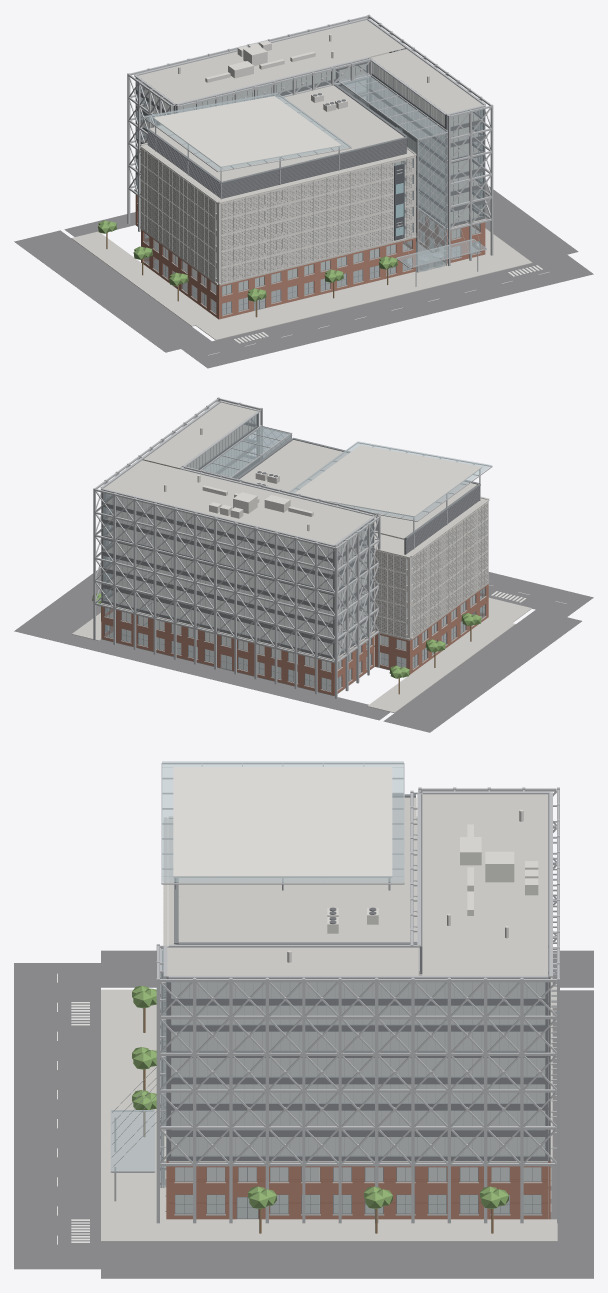
The model's file is clay-braced-frame-hospital-clay-v002.glb.
3 renders of one model, top to bottom at view 1: azimuth 30°, elevation 25°; view 2: azimuth 150°, elevation 25°; view 3: azimuth 270°, elevation 25°, orthographic. The views are drawn at different scales.
Visible parts, largest first — view 1: CLAY_PALE, CLAY_ASPHALT, CLAY_GLASS, CLAY_MEMBRANE, CLAY_STEEL, CLAY_CONCRETE, CLAY_PERF, CLAY_TRIM, CLAY_FLOOR, CLAY_WALL, CLAY_HARDWARE, CLAY_LOUVRE (+4 smaller); view 2: CLAY_STEEL, CLAY_GLASS, CLAY_PALE, CLAY_FLOOR, CLAY_ASPHALT, CLAY_MEMBRANE, CLAY_TRIM, CLAY_WALL, CLAY_CONCRETE, CLAY_PERF, CLAY_FOUNDATION, CLAY_HARDWARE (+3 smaller); view 3: CLAY_ASPHALT, CLAY_GLASS, CLAY_STEEL, CLAY_MEMBRANE, CLAY_FLOOR, CLAY_PALE, CLAY_CONCRETE, CLAY_TRIM, CLAY_WALL, CLAY_FOUNDATION, CLAY_PLANTING, CLAY_STONE (+1 smaller).
Part boxes in pixels (x1,y1,x2,y2): CLAY_PALE: (140, 34, 429, 283); CLAY_ASPHALT: (14, 184, 593, 368); CLAY_GLASS: (137, 48, 486, 314); CLAY_MEMBRANE: (138, 20, 482, 201); CLAY_STEEL: (127, 14, 493, 286); CLAY_CONCRETE: (71, 127, 532, 340); CLAY_PERF: (141, 149, 411, 282); CLAY_TRIM: (135, 19, 485, 315); CLAY_FLOOR: (141, 52, 479, 294); CLAY_WALL: (135, 195, 485, 319); CLAY_HARDWARE: (143, 93, 406, 266); CLAY_LOUVRE: (148, 85, 406, 198); CLAY_STEEL: (93, 397, 492, 698); CLAY_GLASS: (103, 415, 491, 690); CLAY_PALE: (164, 427, 488, 638); CLAY_FLOOR: (106, 424, 482, 670); CLAY_ASPHALT: (14, 568, 593, 732); CLAY_MEMBRANE: (104, 402, 485, 556); CLAY_TRIM: (101, 402, 485, 691); CLAY_WALL: (101, 581, 488, 695); CLAY_CONCRETE: (72, 496, 531, 712); CLAY_PERF: (376, 504, 487, 636); CLAY_FOUNDATION: (101, 614, 482, 696); CLAY_HARDWARE: (257, 471, 485, 616); CLAY_ASPHALT: (14, 950, 593, 1278); CLAY_GLASS: (111, 761, 545, 1218); CLAY_STEEL: (110, 762, 559, 1223); CLAY_MEMBRANE: (167, 794, 547, 976); CLAY_FLOOR: (171, 794, 548, 1188); CLAY_PALE: (163, 767, 538, 973); CLAY_CONCRETE: (101, 816, 557, 1241); CLAY_TRIM: (166, 794, 550, 1218); CLAY_WALL: (166, 1161, 550, 1219); CLAY_FOUNDATION: (175, 1189, 548, 1219); CLAY_PLANTING: (132, 986, 508, 1208); CLAY_STONE: (165, 1166, 551, 1215).
Bounding box in the file's own units: 107 × 39.8 × 80.
